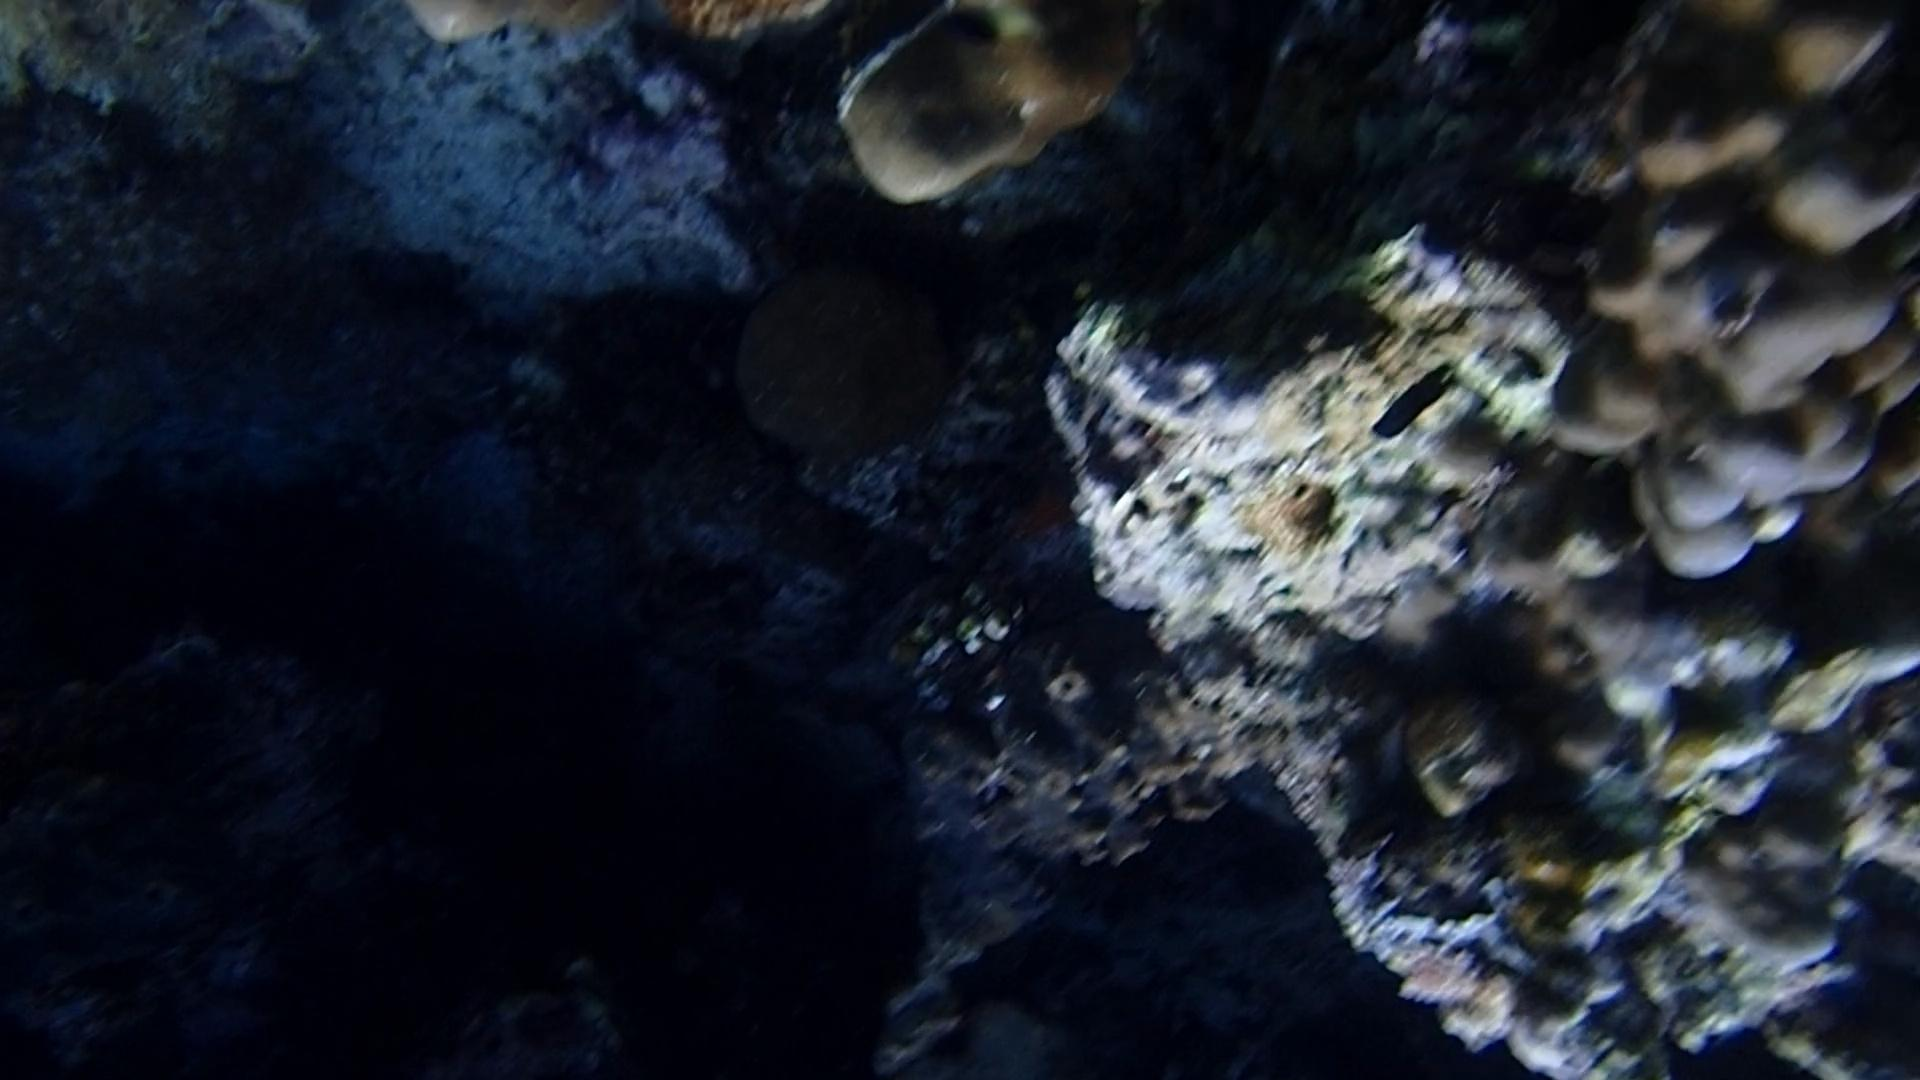Dark Fish: (1370, 349, 1472, 448)
Yellow Tail: (942, 0, 1055, 65)
